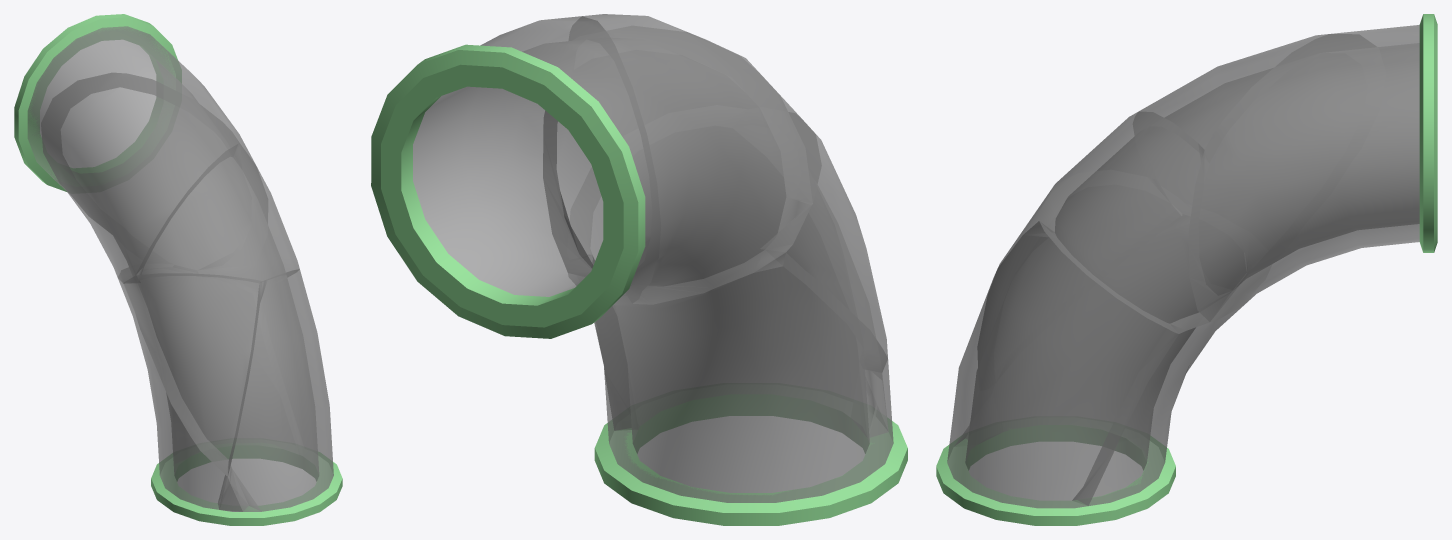
The model's file is Entity_PipeCurveLarge-bkn.FBX.
3 renders of one model, left to right at view 1: azimuth 30°, elevation 25°; view 2: azimuth 150°, elevation 25°; view 3: azimuth 270°, elevation 25°, orthographic. The views are drawn at different scales.
Parts seen in each view (by area): view 1: Torus003_Part_3, Torus003_Part_2, Torus003_Part_5, Torus003_Part_4, Torus003_Part_1, Torus003_Part_6, Object002, Object003; view 2: Torus003_Part_2, Torus003_Part_4, Torus003_Part_5, Torus003_Part_3, Object002, Torus003_Part_6, Object003, Torus003_Part_1; view 3: Torus003_Part_3, Torus003_Part_4, Torus003_Part_2, Torus003_Part_5, Torus003_Part_6, Torus003_Part_1, Object003, Object002.
Boxes of the visible parts, x1=… form: Torus003_Part_3: x1=27, y1=26, x2=267, y2=272; Torus003_Part_2: x1=118, y1=268, x2=297, y2=511; Torus003_Part_5: x1=41, y1=72, x2=239, y2=283; Torus003_Part_4: x1=218, y1=269, x2=333, y2=511; Torus003_Part_1: x1=123, y1=273, x2=262, y2=476; Torus003_Part_6: x1=136, y1=143, x2=299, y2=291; Object002: x1=14, y1=14, x2=181, y2=191; Object003: x1=151, y1=445, x2=342, y2=525; Torus003_Part_2: x1=568, y1=250, x2=893, y2=502; Torus003_Part_4: x1=570, y1=126, x2=888, y2=437; Torus003_Part_5: x1=569, y1=14, x2=812, y2=304; Torus003_Part_3: x1=413, y1=16, x2=661, y2=304; Object002: x1=371, y1=44, x2=645, y2=338; Torus003_Part_6: x1=543, y1=26, x2=821, y2=275; Object003: x1=594, y1=394, x2=907, y2=525; Torus003_Part_1: x1=734, y1=112, x2=887, y2=371; Torus003_Part_3: x1=1188, y1=25, x2=1419, y2=322; Torus003_Part_4: x1=947, y1=221, x2=1178, y2=508; Torus003_Part_2: x1=996, y1=215, x2=1271, y2=505; Torus003_Part_5: x1=1133, y1=34, x2=1376, y2=271; Torus003_Part_6: x1=1039, y1=111, x2=1232, y2=333; Torus003_Part_1: x1=977, y1=171, x2=1179, y2=381; Object003: x1=936, y1=425, x2=1175, y2=525; Object002: x1=1419, y1=14, x2=1437, y2=252.
Size of the model in its own units: 65.06 by 138 by 138.
